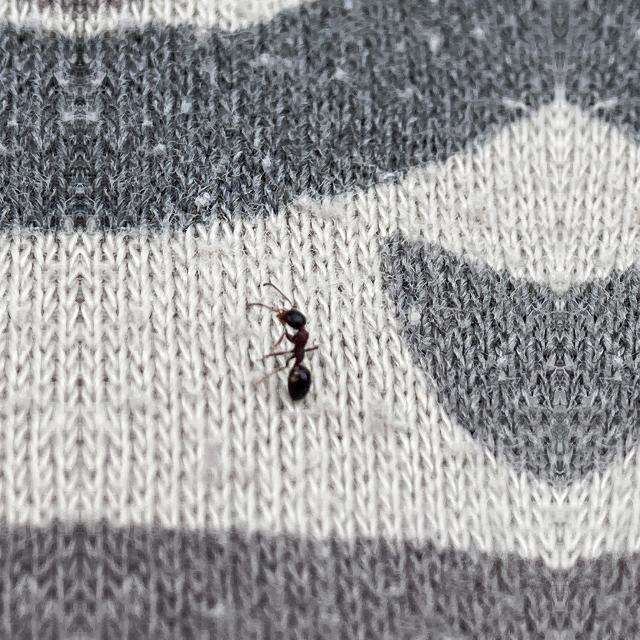Dolichoderus: (264, 284, 324, 410)
